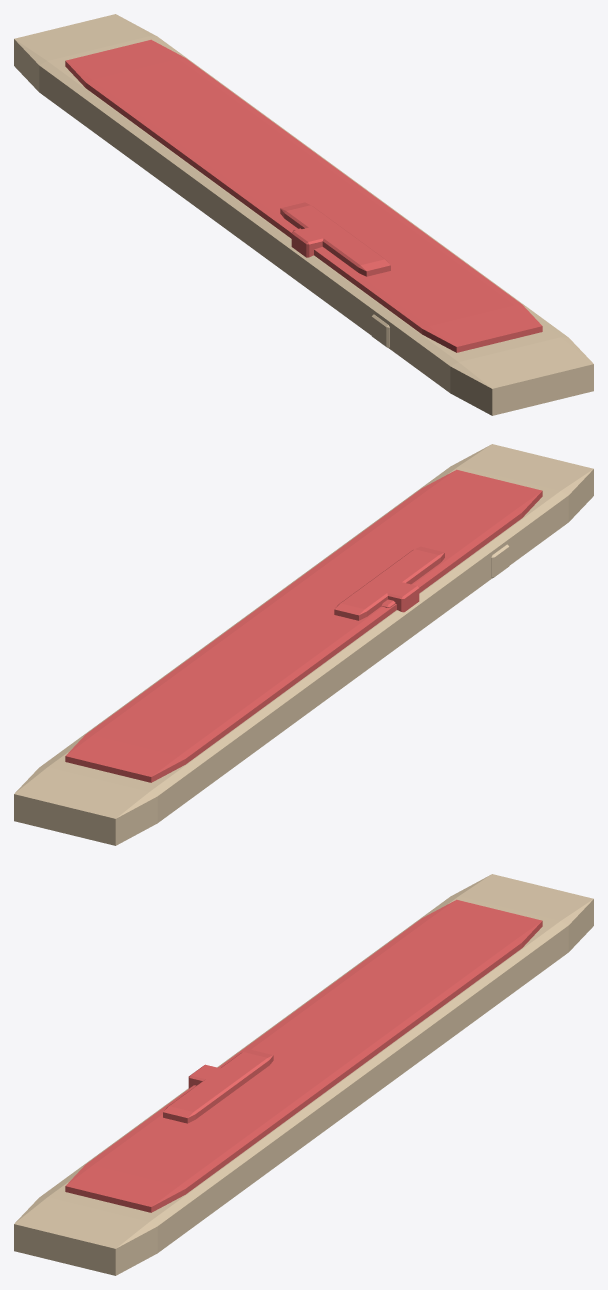
Rendered from b16_chopsticks_in_paper_sleeve.glb.
3 renders of one model, top to bottom at view 1: azimuth 30°, elevation 25°; view 2: azimuth 150°, elevation 25°; view 3: azimuth 330°, elevation 25°, orthographic.
Parts seen in each view (by area): view 1: b16_chopsticks_in_paper_sleeve; view 2: b16_chopsticks_in_paper_sleeve; view 3: b16_chopsticks_in_paper_sleeve.
Part boxes in pixels (bbox=[...]): b16_chopsticks_in_paper_sleeve: bbox=[14, 14, 593, 415]; b16_chopsticks_in_paper_sleeve: bbox=[14, 444, 593, 845]; b16_chopsticks_in_paper_sleeve: bbox=[14, 874, 593, 1275].
Bounding box in the file's own units: 0.037 × 0.014 × 0.254.
